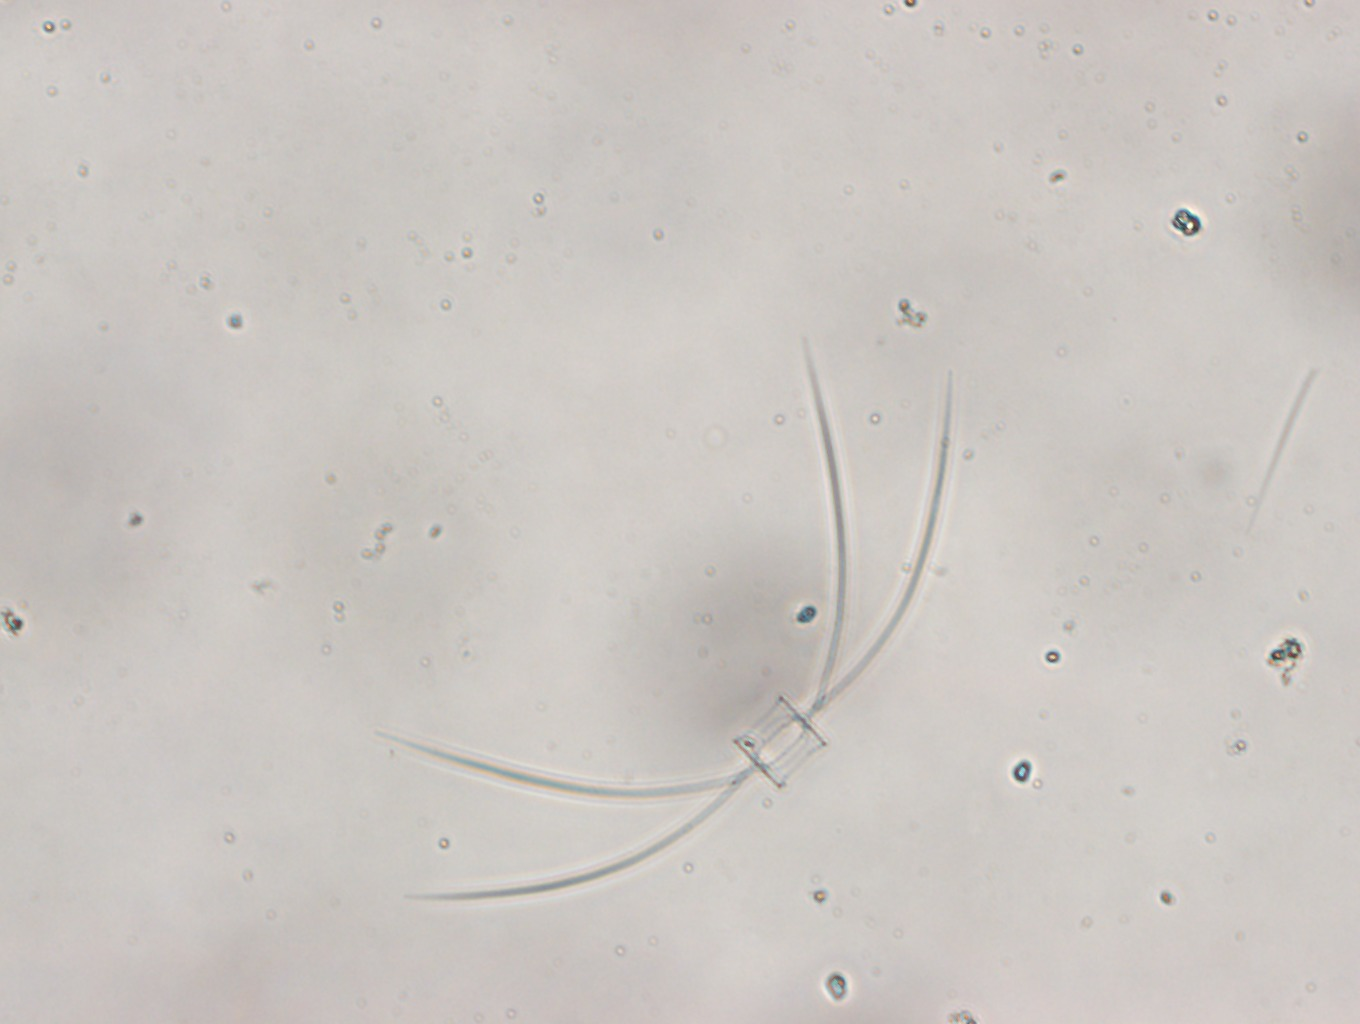chaetoceros: (391, 335, 953, 902)
